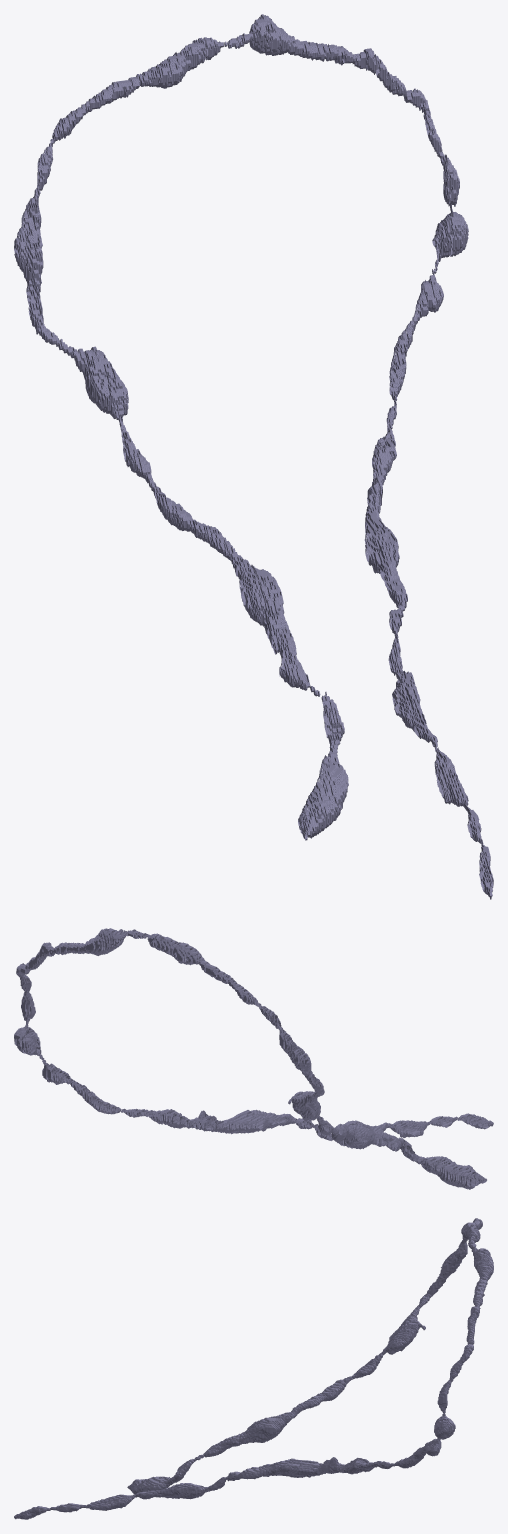
Rendered from SVV_AVBL.gltf.
3 views of the same model, one above another, from view 1: azimuth 30°, elevation 25°; view 2: azimuth 150°, elevation 25°; view 3: azimuth 270°, elevation 25° (orthographic). The views are drawn at different scales.
Parts seen in each view (by area): view 1: AVBL; view 2: AVBL; view 3: AVBL.
Part boxes in pixels (<box>): AVBL: <box>14,14,493,899</box>; AVBL: <box>14,928,493,1189</box>; AVBL: <box>14,1218,493,1519</box>.
Size of the model in its own units: 125277 by 146400 by 199256.
